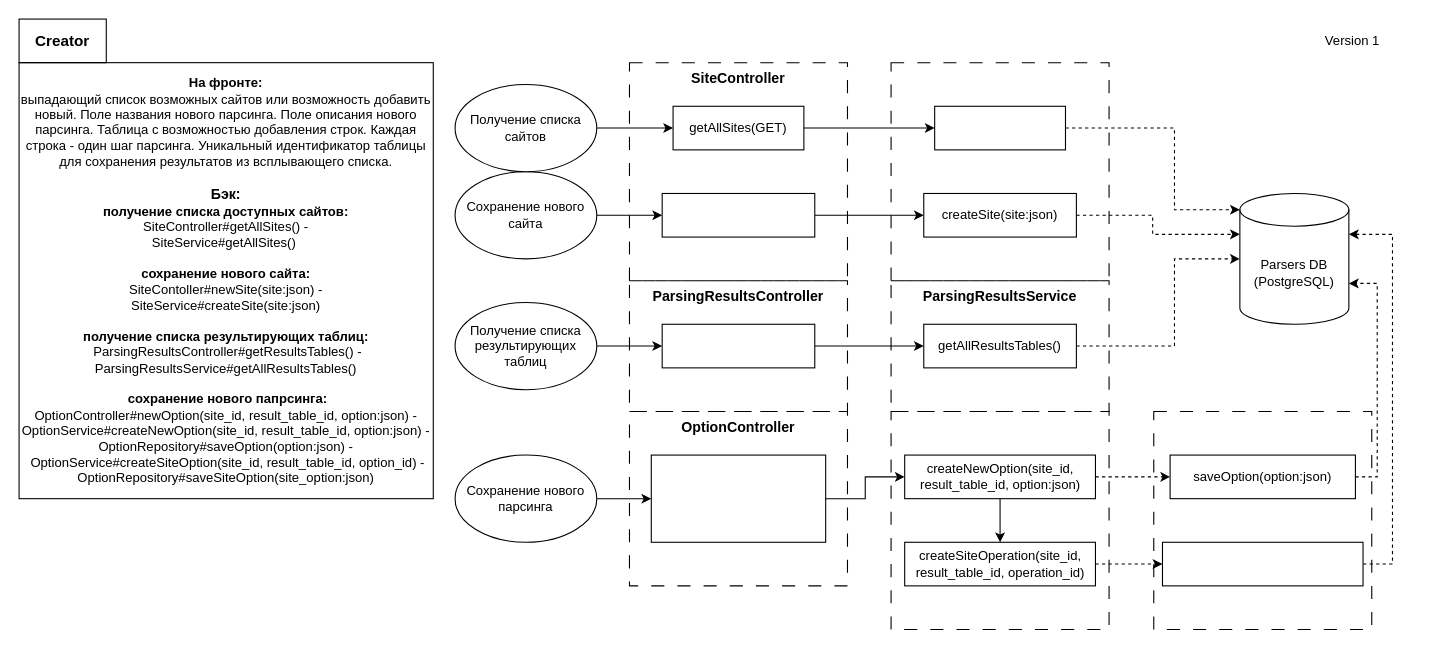
Image size: 1430x649. Some labels were removed from this diagram. The box of each missing label's shape, as (x1, y1, x2, y2) in pixels:
getAllSites(): (934, 105, 1065, 150)
getResultsTables(GET): (661, 323, 815, 368)
newOption(POST) *site_id *result_table_id *requestBody (option:json): (650, 454, 826, 542)
newSite(POST) *requestBody (site:json): (661, 192, 815, 237)
OptionRepository: (1153, 410, 1372, 629)
OptionService: (890, 410, 1109, 629)
saveSiteOption(site_option:json): (1161, 541, 1363, 586)
SiteService: (890, 62, 1109, 281)
